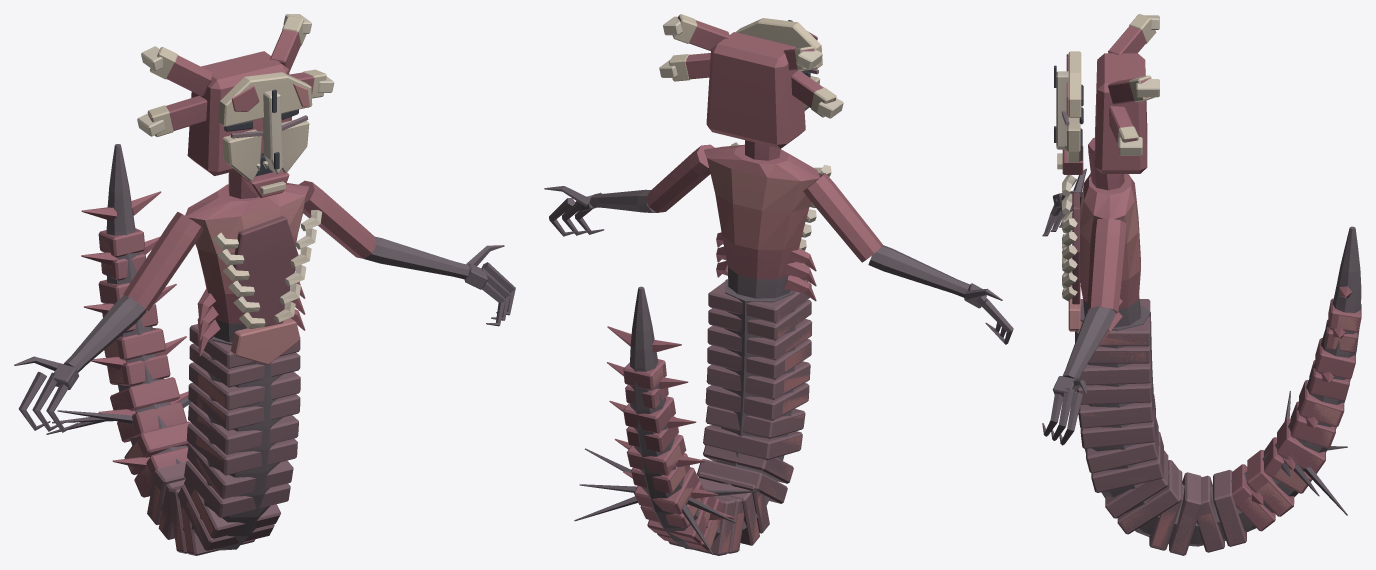
The model's file is Dredge.glb.
3 views of the same model, side by side, from view 1: azimuth 30°, elevation 25°; view 2: azimuth 150°, elevation 25°; view 3: azimuth 270°, elevation 25° (orthographic). The views are drawn at different scales.
Visible parts, largest first — view 1: Body, Head, ArmR, ArmL; view 2: Body, Head, ArmR, ArmL; view 3: Body, Head, ArmL, ArmR.
Boxes of the visible parts, box(x1,y1,x2,y2) form: Body: box(46, 144, 322, 555); Head: box(137, 14, 334, 198); ArmR: box(14, 212, 203, 432); ArmL: box(299, 180, 515, 326); Body: box(574, 142, 831, 555); Head: box(659, 14, 843, 160); ArmR: box(803, 173, 1013, 344); ArmL: box(544, 144, 714, 236); Body: box(1062, 173, 1361, 555); Head: box(1054, 14, 1159, 190); ArmL: box(1042, 218, 1126, 445); ArmR: box(1042, 168, 1086, 236).
Size of the model in its own units: 6.83 by 6.96 by 4.04.
